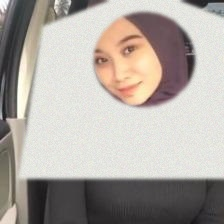Mukena: (32, 0, 224, 178)
